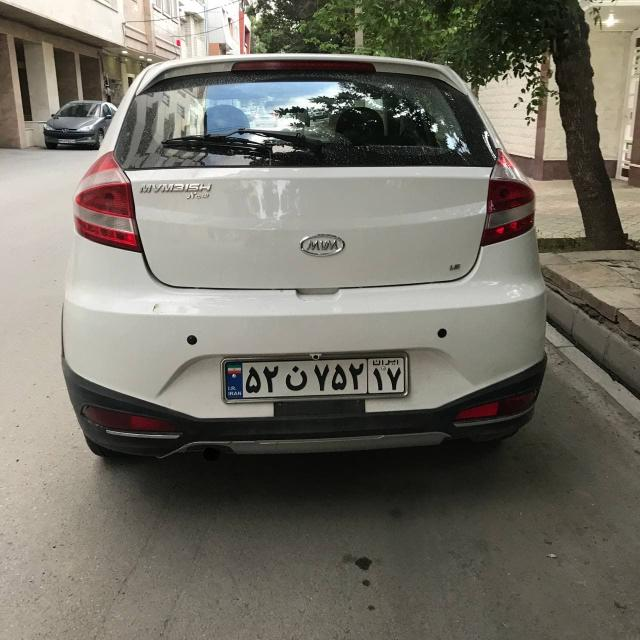Plates: (225, 355, 405, 400)
